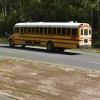Bus: (12, 19, 93, 53)
